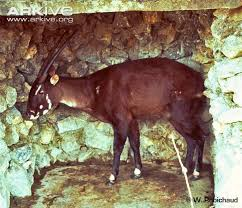sao_la: (25, 26, 203, 180)
